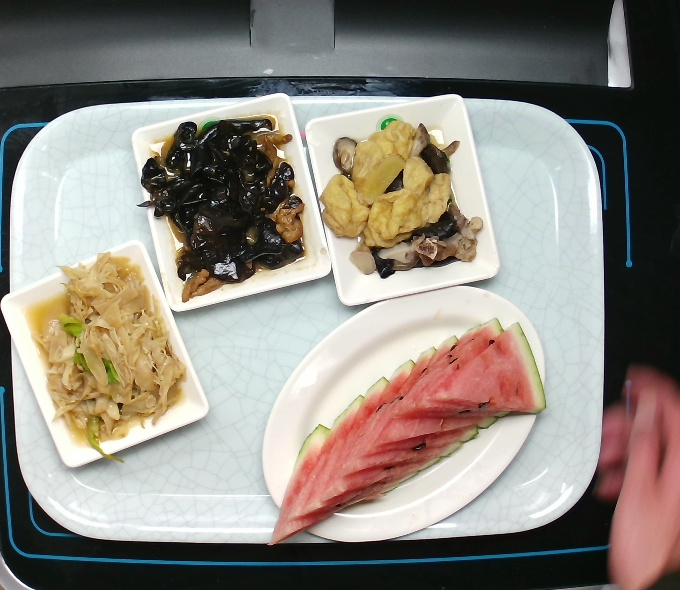wcq-LuSun: (18, 248, 192, 460)
wcq-MuErChaoRou: (133, 109, 307, 304)
wcq-XiGua: (253, 311, 551, 554)
wcq-YouPaoPaiGu: (308, 106, 484, 288)
